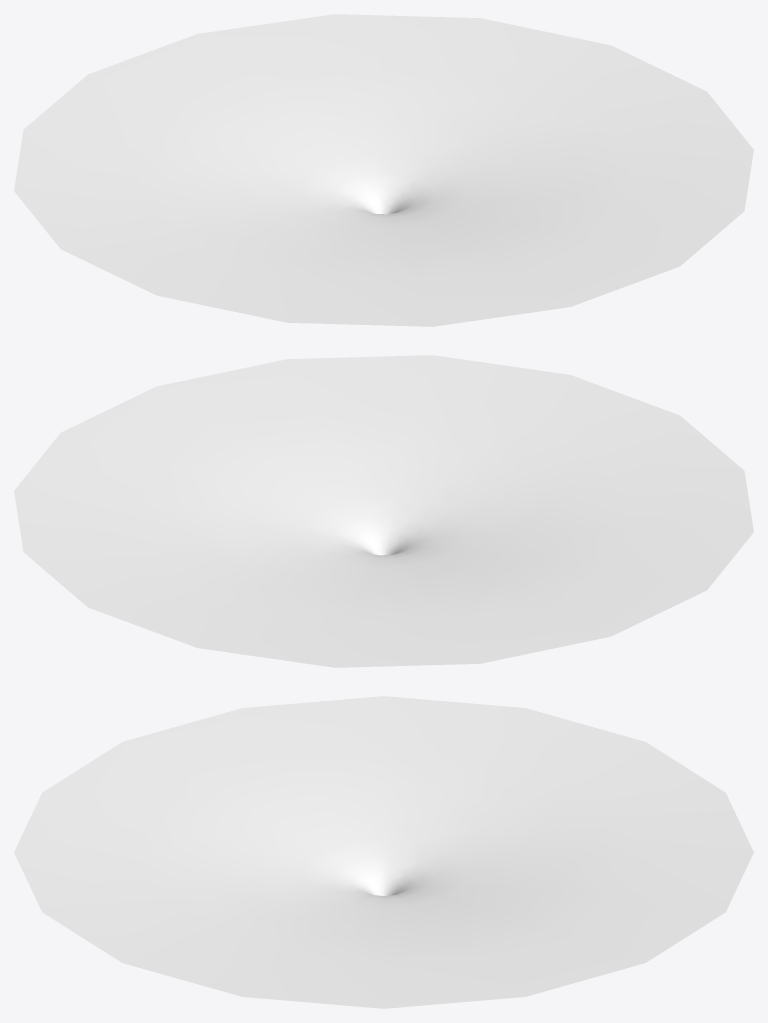
Rendered from VORTEX.fbx.
3 renders of one model, top to bottom at view 1: azimuth 30°, elevation 25°; view 2: azimuth 150°, elevation 25°; view 3: azimuth 270°, elevation 25°, orthographic.
Parts seen in each view (by area): view 1: Cylinder; view 2: Cylinder; view 3: Cylinder.
Part boxes in pixels (box(x1,y1,x2,y2)): Cylinder: box(14, 14, 753, 326); Cylinder: box(14, 355, 753, 667); Cylinder: box(14, 696, 753, 1008).
Bounding box in the file's own units: 78734 × 10000 × 78734.
Materials: 1 (1 with a texture image).
